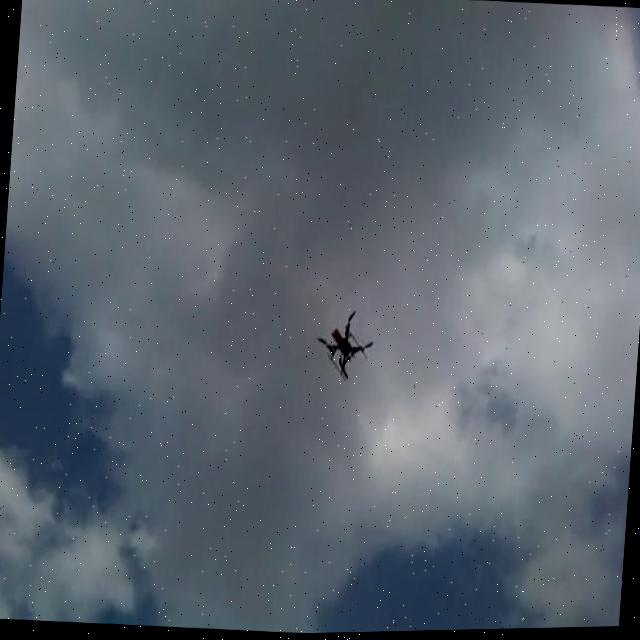drone: (312, 304, 376, 383)
